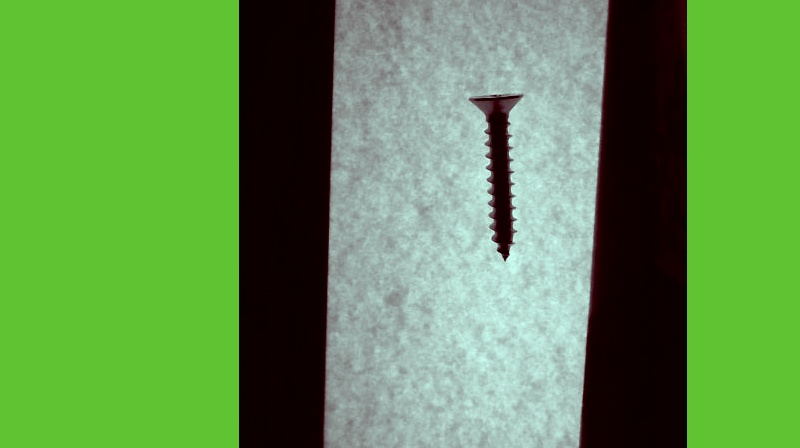S001: (467, 88, 527, 263)
